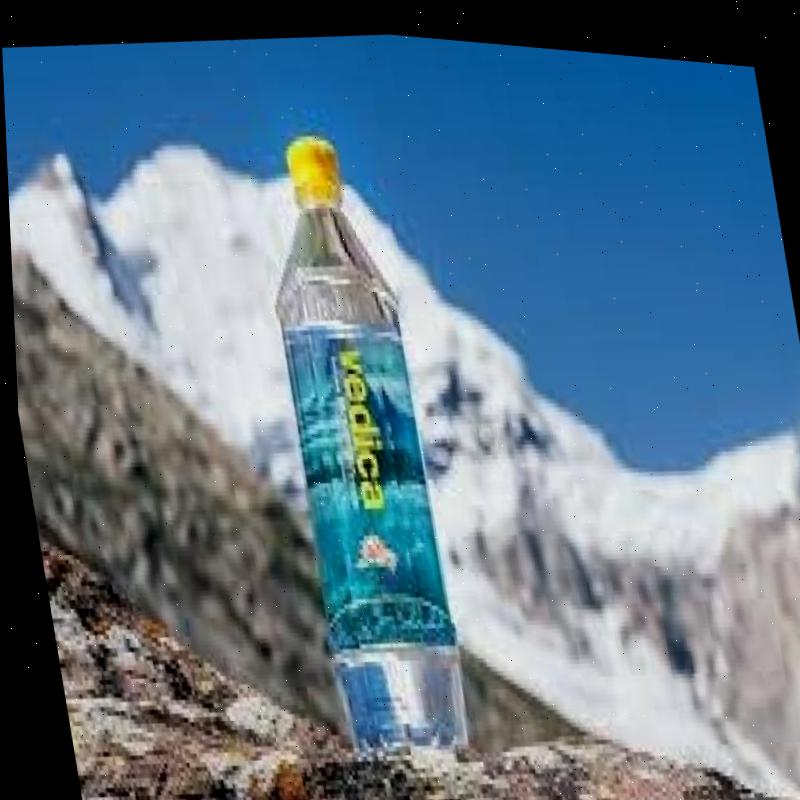botella: (242, 117, 467, 760)
